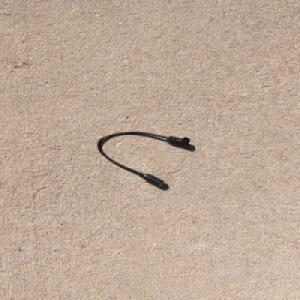Wire: (96, 130, 191, 187)
